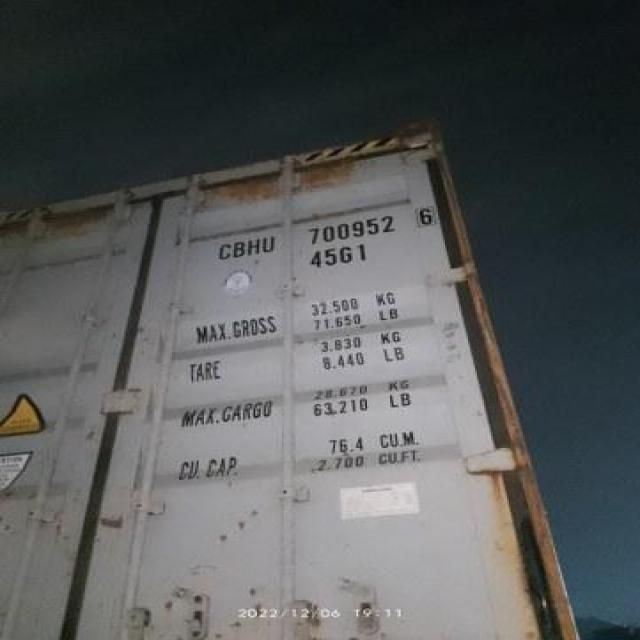container_number_h: (167, 191, 444, 297)
